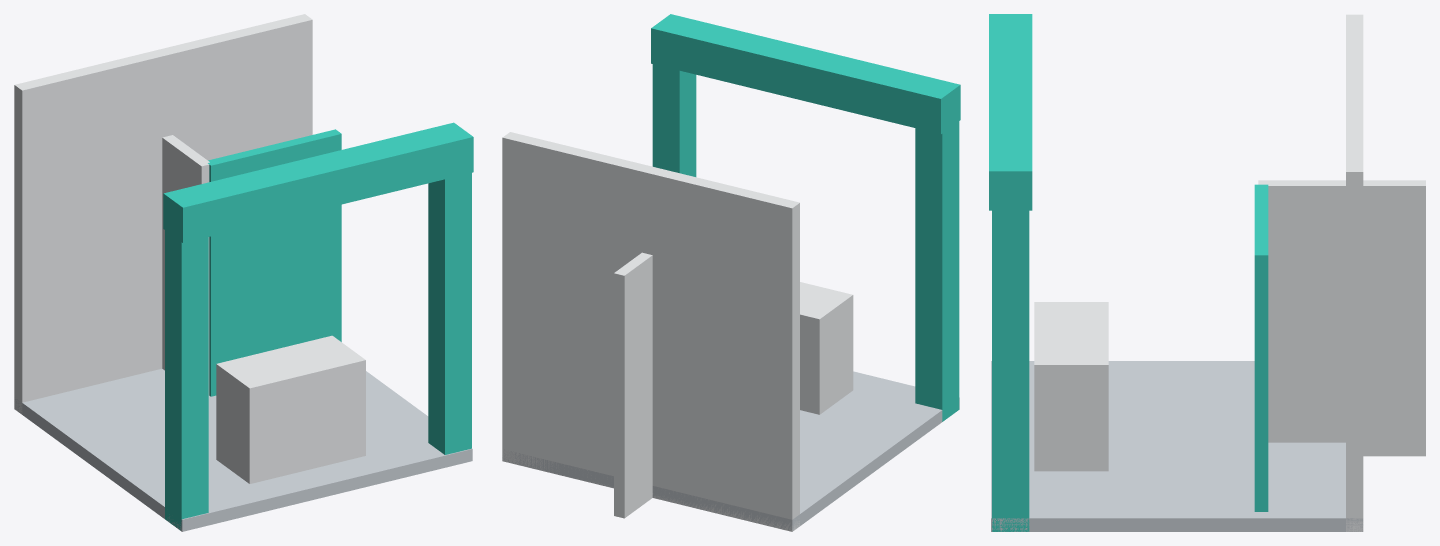
The picture shows the model from 3 angles, left to right: view 1: azimuth 30°, elevation 25°; view 2: azimuth 150°, elevation 25°; view 3: azimuth 270°, elevation 25°; orthographic projection. The views are drawn at different scales.
Visible parts, largest first — view 1: Exhibition Booth Concept; view 2: Exhibition Booth Concept; view 3: Exhibition Booth Concept.
Boxes of the visible parts, box(x1,y1,x2,y2) form: Exhibition Booth Concept: box(14, 14, 473, 531); Exhibition Booth Concept: box(502, 14, 960, 531); Exhibition Booth Concept: box(989, 14, 1425, 531).
Bounding box in the file's own units: 3 × 3.2 × 3.52.
